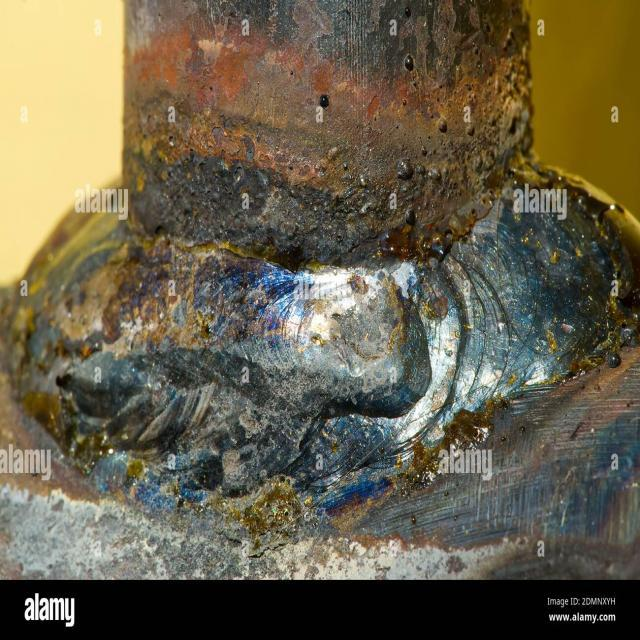Bad Weld: (21, 168, 634, 506)
